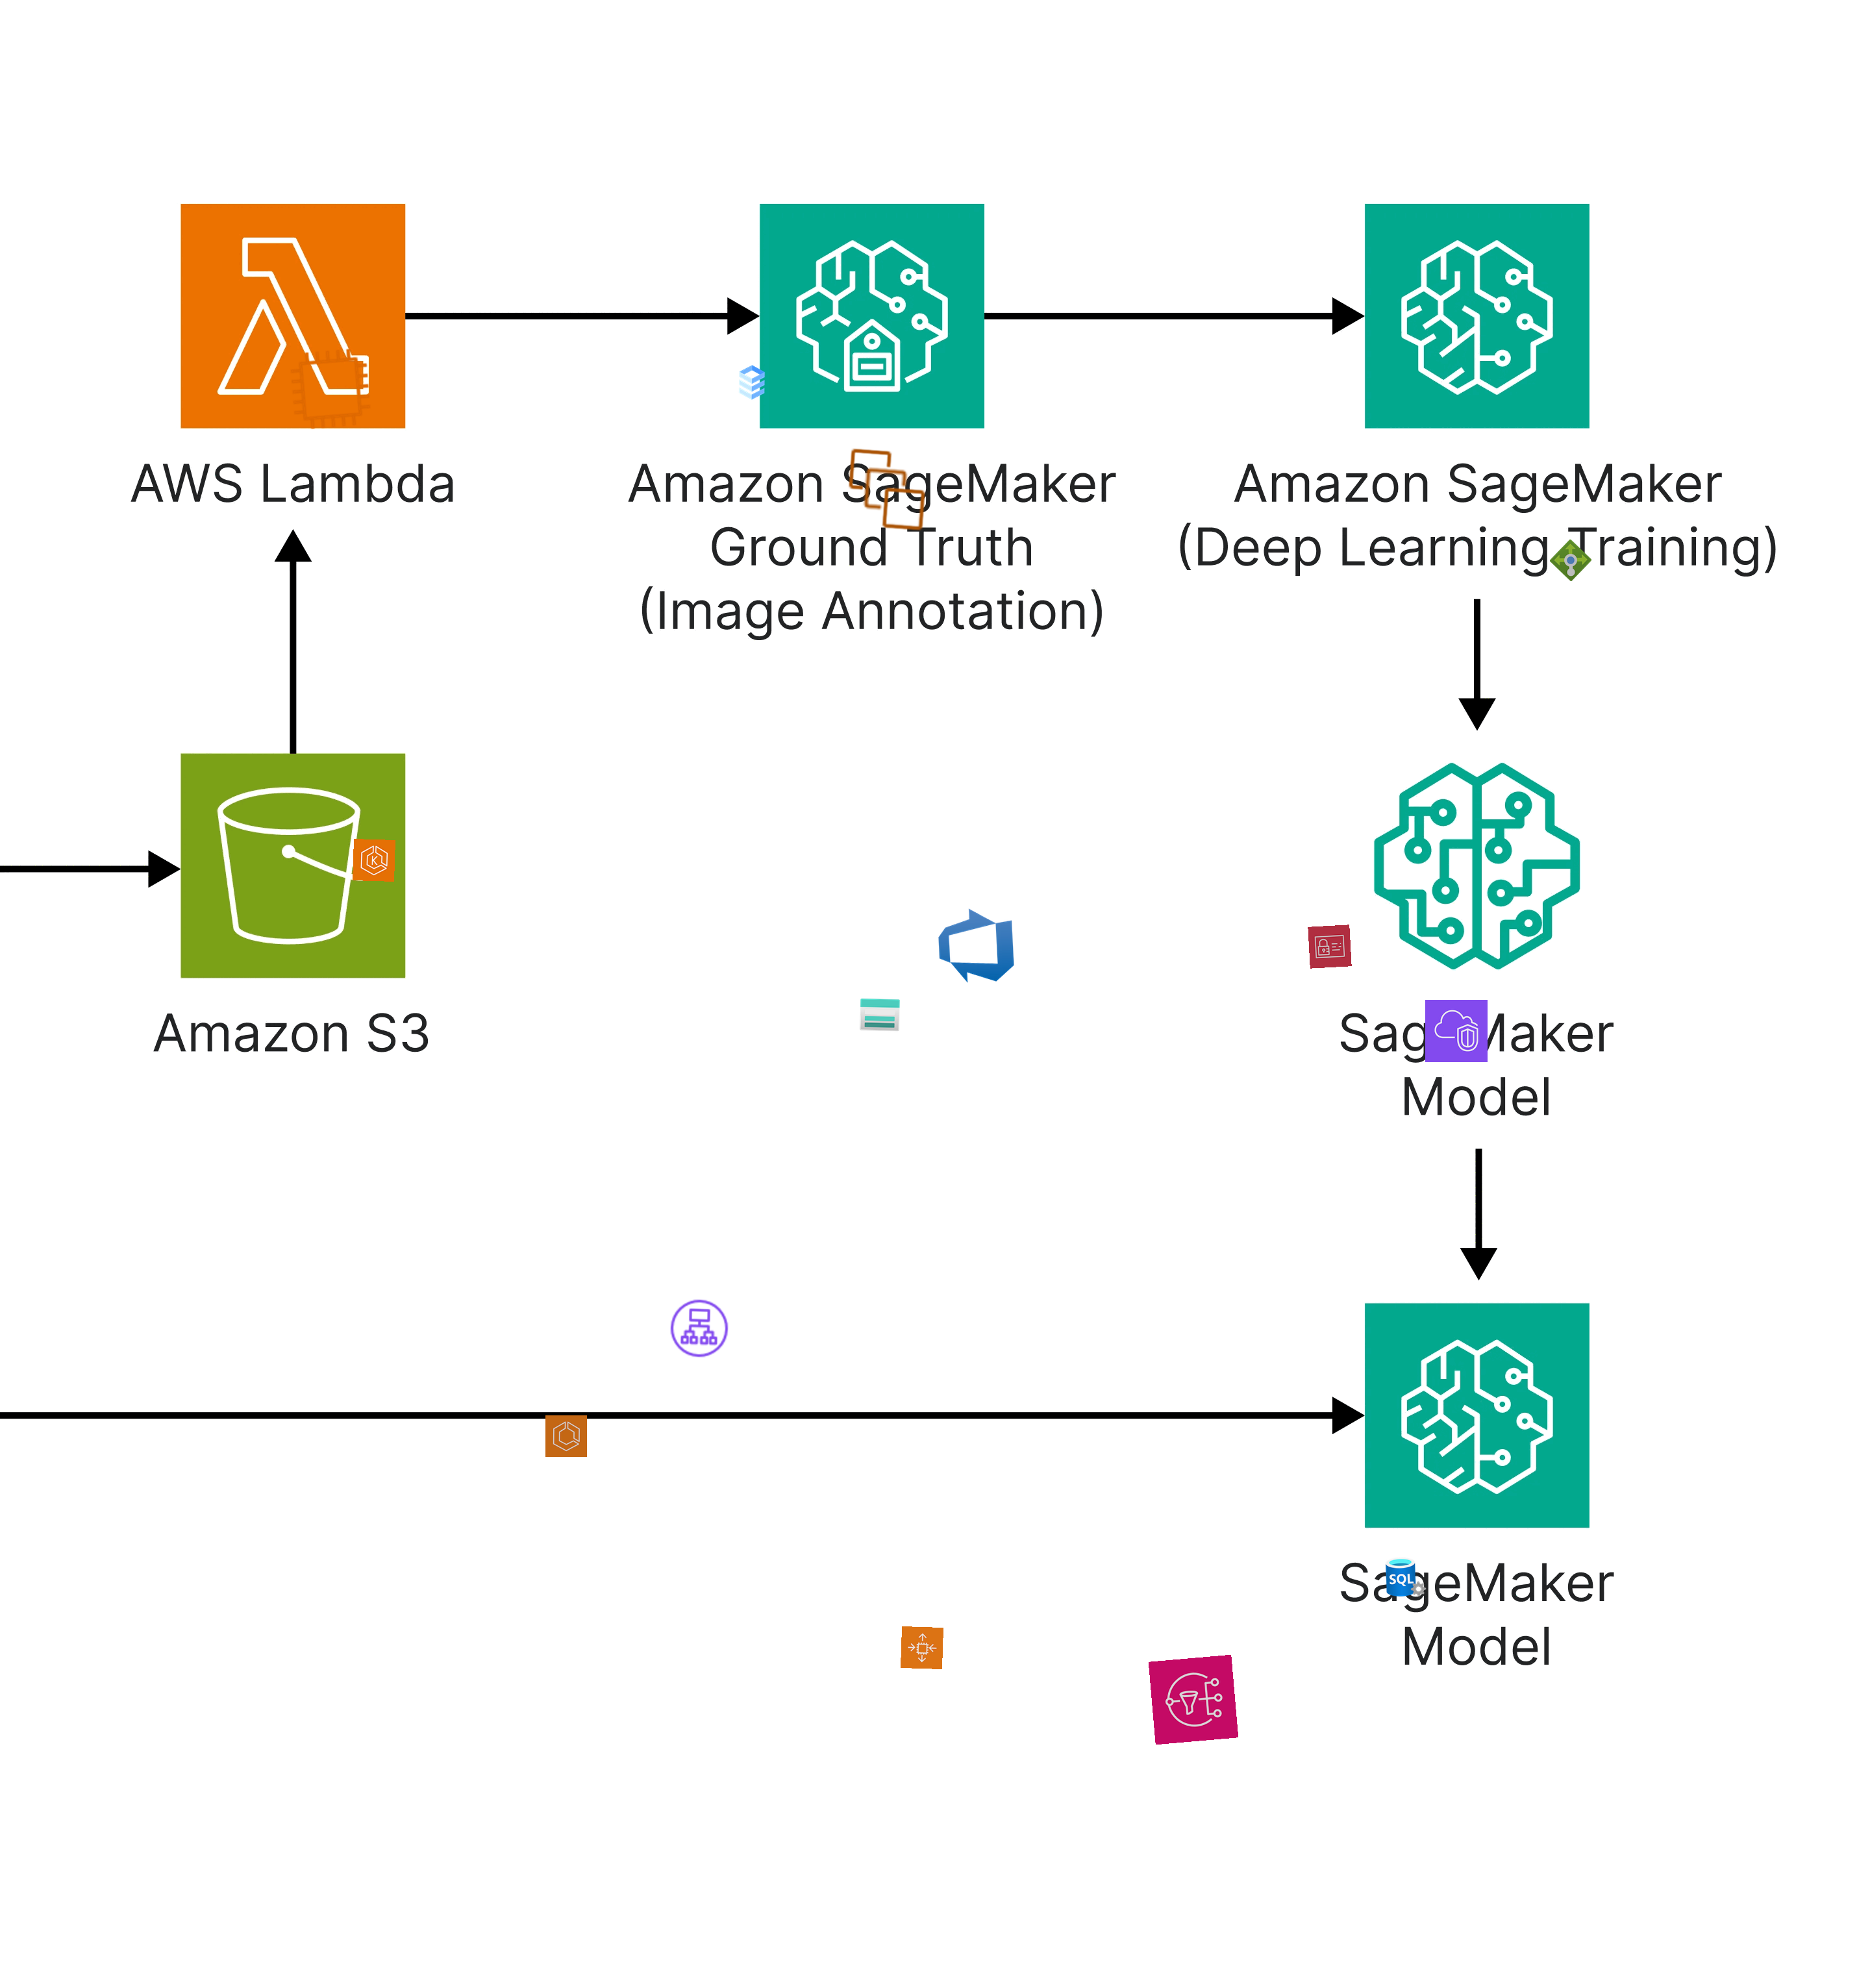aws_amazon_ec2_auto_scaling: (900, 1626, 944, 1670)
aws_amazon_elastic_container_service: (545, 1415, 587, 1457)
aws_amazon_elastic_kubernetes_service: (353, 838, 395, 882)
aws_amazon_simple_notification_service: (1148, 1654, 1239, 1745)
aws_amazon_virtual_private_cloud: (1425, 998, 1489, 1063)
aws_ec2_instance: (285, 343, 376, 434)
aws_ec2_instances: (842, 445, 931, 534)
aws_elastic_load_balancing_application_load_balancer: (666, 1295, 731, 1360)
aws_identity_and_access_management: (1308, 925, 1352, 969)
azure_devops: (931, 902, 1019, 990)
azure_load_balancers: (1548, 540, 1592, 582)
azure_sql_server: (1383, 1556, 1427, 1600)
azure_storage_accounts: (858, 993, 902, 1037)
gcp_cloud_sql: (731, 360, 773, 404)
